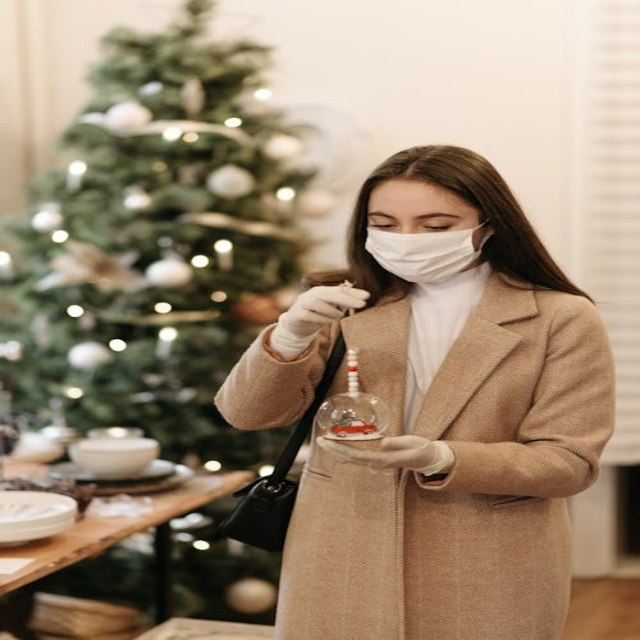Guantes: (269, 280, 368, 353), (319, 433, 448, 476)
Mascara: (363, 218, 492, 282)
Sin_gafas: (367, 206, 466, 233)
